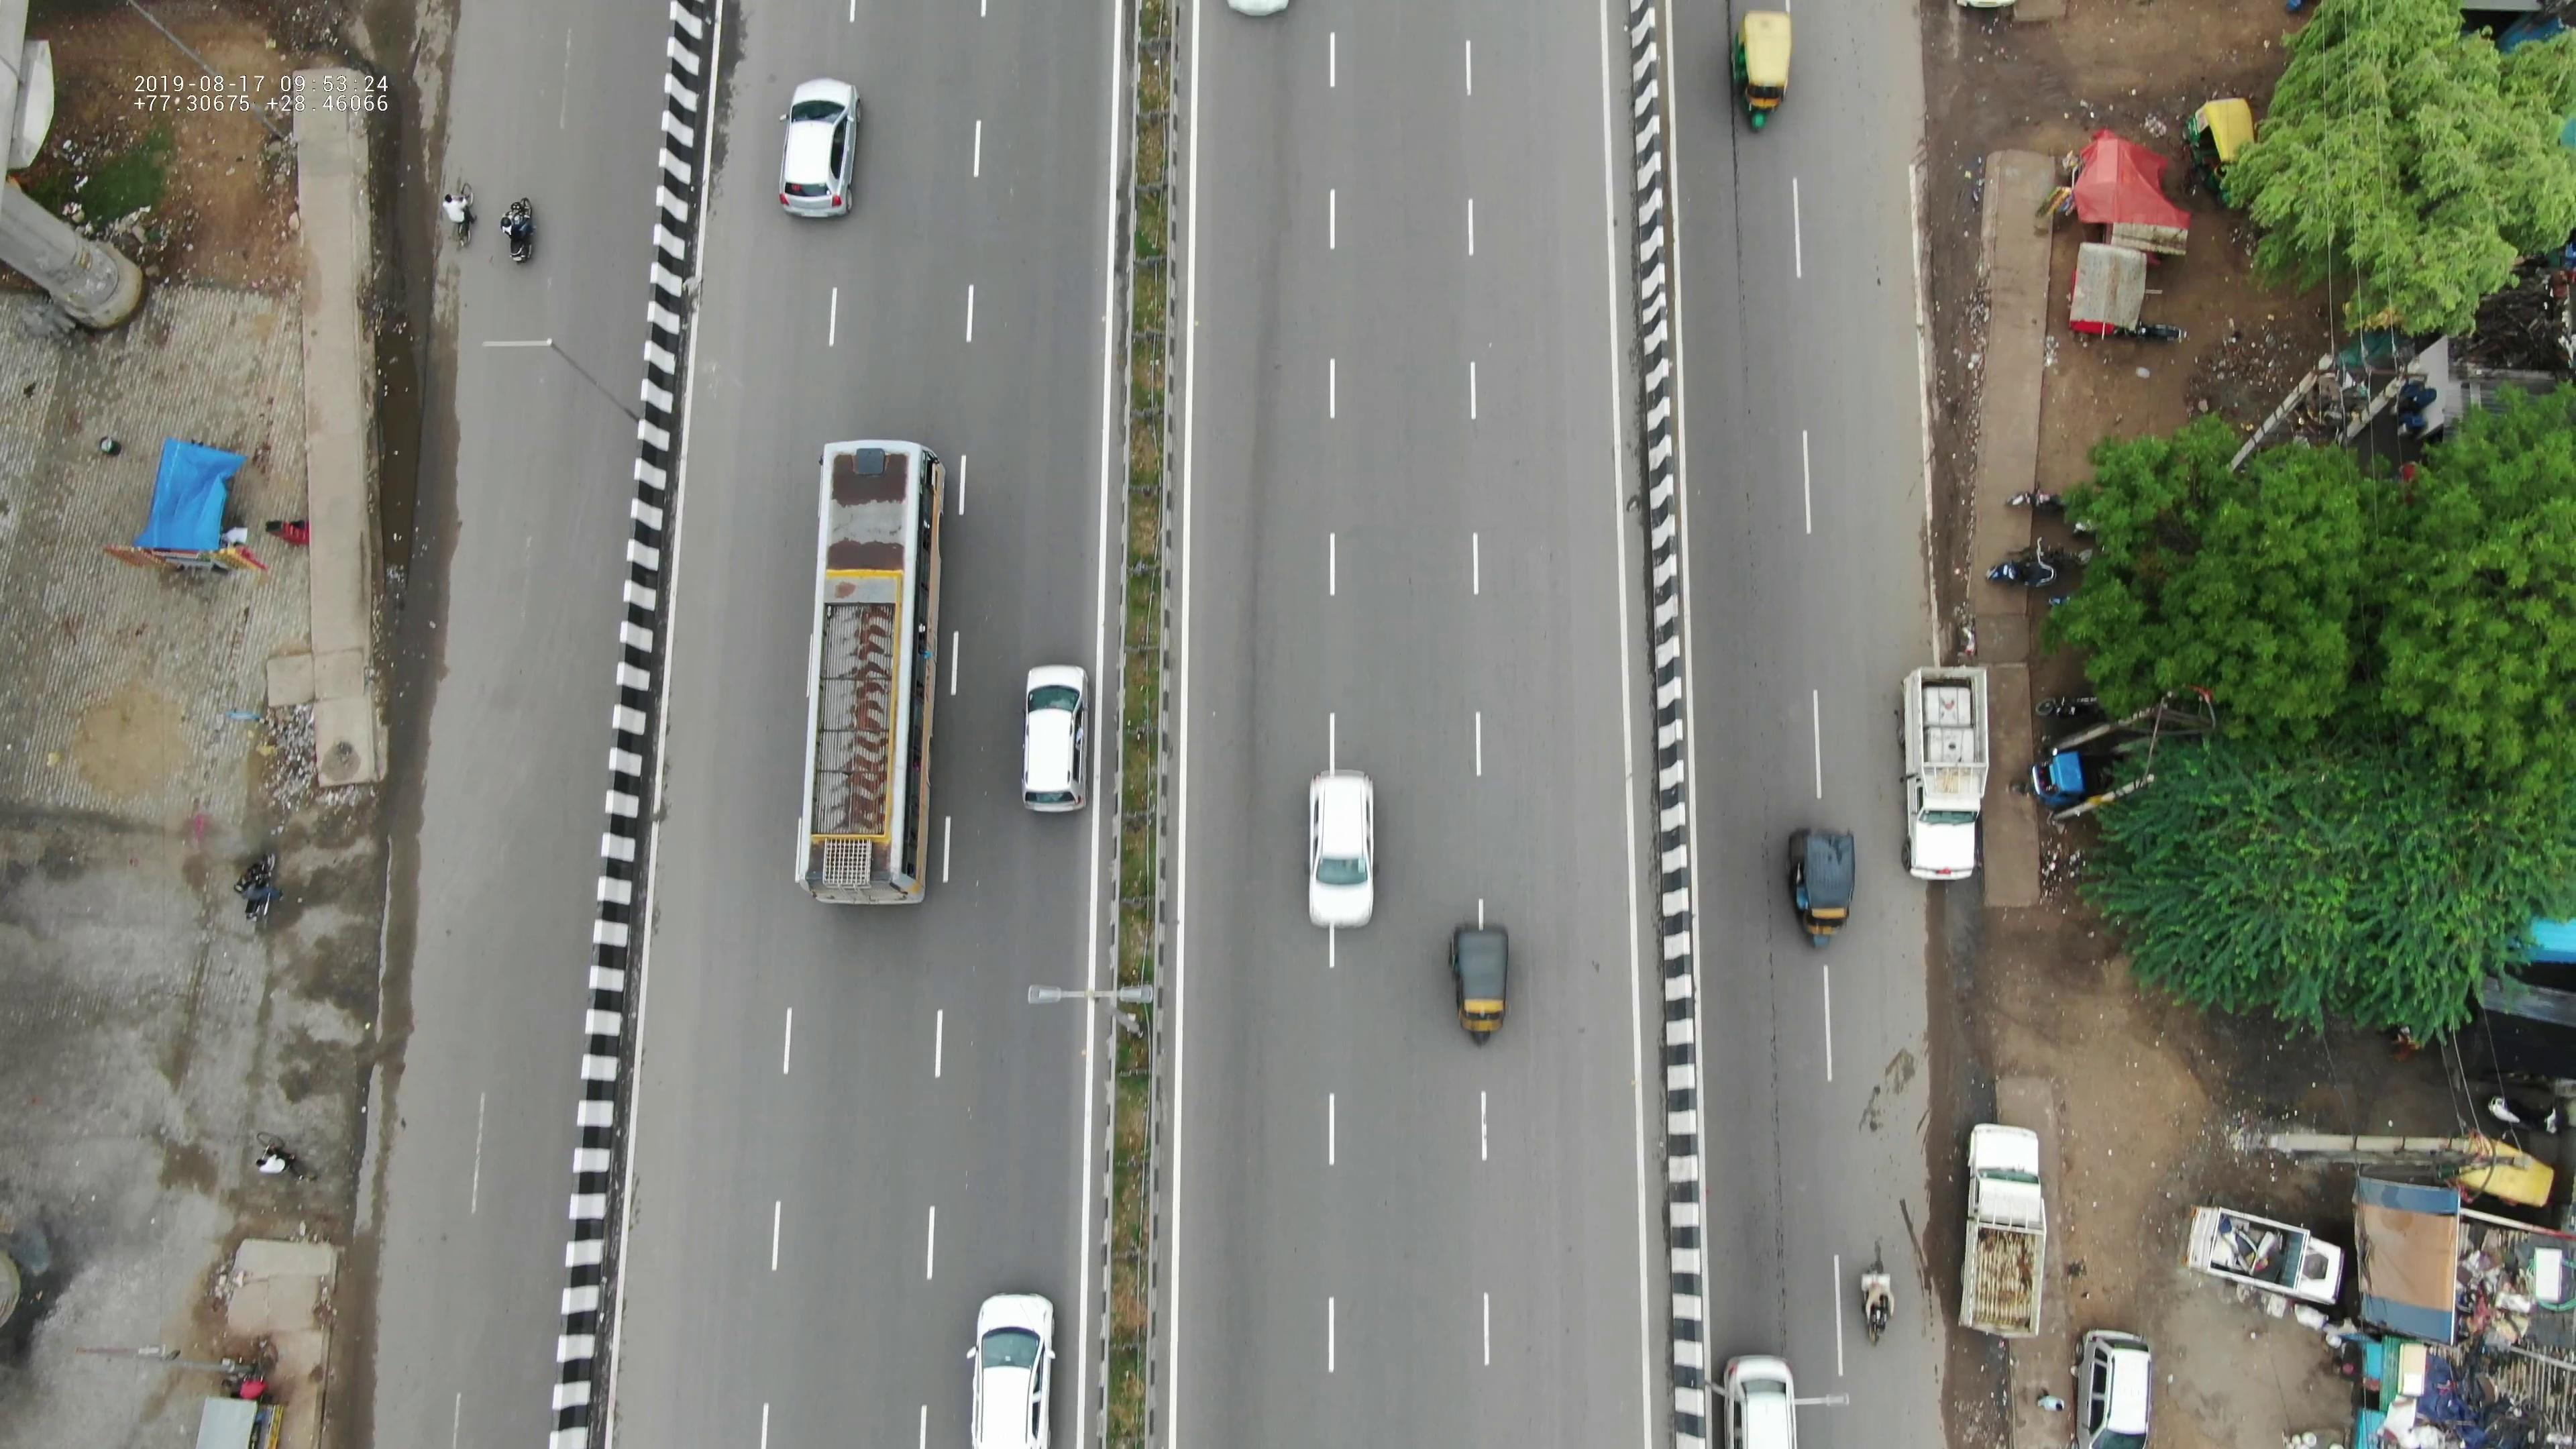Muddy_road: (1904, 154, 2008, 541)
Waterlogging: (357, 317, 435, 605)
